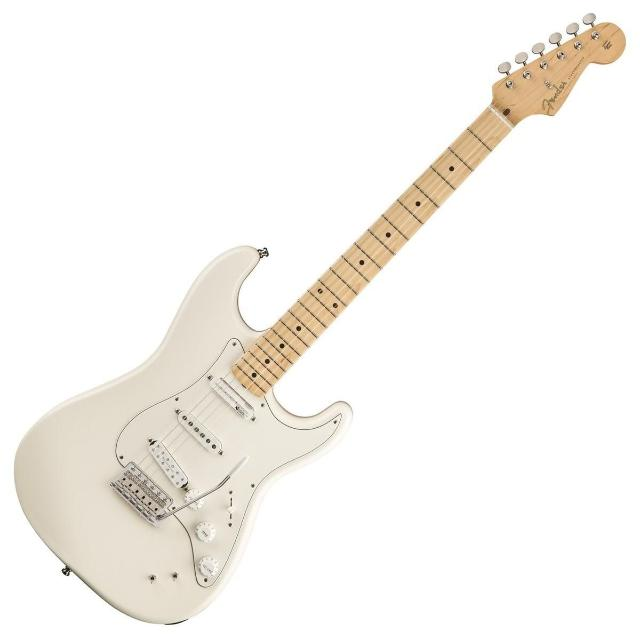Electric-Guitar: (0, 3, 640, 629)
